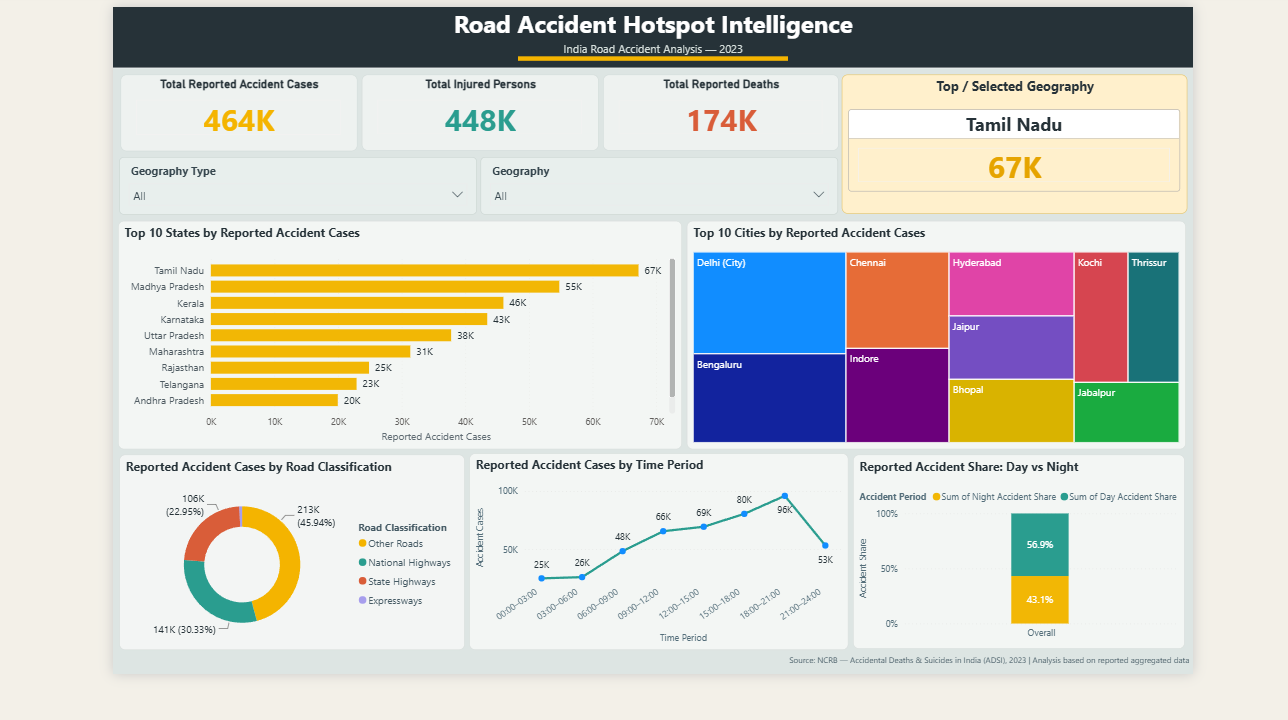

This screenshot's page, from the dashboard's own definition file:
{"tool":"powerbi","page":{"name":"Page 1","canvas":[1440,890],"ordinal":0},"visuals":[{"type":"cardVisual","title":"Total Reported Accident Cases","fields":{"Data":["road_classification_cleaned.Total Accident Cases KPI"]},"box":[9.4,90,315.6,102.2],"z":0},{"type":"cardVisual","title":"Total Injured Persons","fields":{"Data":["road_classification_cleaned.Total Injured Persons KPI"]},"box":[331.6,90.6,315.6,101.6],"z":1000},{"type":"cardVisual","title":"Total Reported Deaths","fields":{"Data":["road_classification_cleaned.Total Reported Deaths KPI"]},"box":[653.1,90.6,314.1,101.6],"z":2000},{"type":"cardVisual","title":"Top / Selected Geography","fields":{"Rows":["road_classification_cleaned.State/UT"],"Data":["Sum(road_classification_cleaned.Total - Cases)"]},"box":[971.9,90.6,460.9,185.9],"z":3000},{"type":"textbox","title":"Road Accident Hotspot Intelligence","box":[0,0,1440.6,81.2],"z":4000},{"type":"slicer","fields":{"Values":["Geography_Dim.Geography Type"]},"box":[7.7,200,477,76.9],"z":5000},{"type":"slicer","fields":{"Values":["Geography_Dim.Geography"]},"box":[490.8,200,477,76.9],"z":6000},{"type":"clusteredBarChart","title":"Top 10 States by Reported Accident Cases","fields":{"Category":["road_classification_cleaned.State/UT"],"Y":["road_classification_cleaned.State Accident Cases"]},"box":[6.2,284.4,752.2,304.7],"z":7000},{"type":"treemap","title":"Top 10 Cities by Reported Accident Cases","fields":{"Values":["Sum(road_classification_cleaned.Total - Cases)"],"Group":["road_classification_cleaned.State/UT"]},"box":[765.6,284.4,665.6,304.7],"z":8000},{"type":"donutChart","title":"Reported Accident Cases by Road Classification","fields":{"Category":["Road Type Summary.Road Classification"],"Y":["Sum(Road Type Summary.Accident Cases)"]},"box":[7.8,596.9,460.9,260.9],"z":9000},{"type":"hundredPercentStackedColumnChart","title":"Reported Accident Share: Day vs Night","fields":{"Category":["Day Night Summary.Period"],"Y":["Sum(Day Night Summary.Night Accident Share)","Sum(Day Night Summary.Day Accident Share)"]},"box":[986.6,596.9,442.2,259.4],"z":10000},{"type":"lineChart","title":"Reported Accident Cases by Time Period","fields":{"Category":["Time Period Summary.Time Period"],"Y":["Sum(Time Period Summary.Accident Cases)"]},"box":[475,595.3,505.6,262.5],"z":11000},{"type":"shape","box":[540.6,0,360,137.5],"z":12000},{"type":"textbox","title":"Source: NCRB — Accidental Deaths & Suicides in India (ADSI), 2023 | Analysis based on reported aggregated data","box":[0,863.7,1440,28.3],"z":13000}]}

Visuals, with their boxes on the page's 1440x890 design canvas (x1, y1, x2, y2). These are canvas units, not pixel positions in the 1288x720 screenshot, which may show the page scaled, cropped or inside an application window:
"Total Reported Accident Cases" cardVisual: 9,90,325,192
"Total Injured Persons" cardVisual: 332,91,647,192
"Total Reported Deaths" cardVisual: 653,91,967,192
"Top / Selected Geography" cardVisual: 972,91,1433,276
"Road Accident Hotspot Intelligence" textbox: 0,0,1441,81
slicer - Geography_Dim.Geography Type: 8,200,485,277
slicer - Geography_Dim.Geography: 491,200,968,277
"Top 10 States by Reported Accident Cases" clusteredBarChart: 6,284,758,589
"Top 10 Cities by Reported Accident Cases" treemap: 766,284,1431,589
"Reported Accident Cases by Road Classification" donutChart: 8,597,469,858
"Reported Accident Share: Day vs Night" hundredPercentStackedColumnChart: 987,597,1429,856
"Reported Accident Cases by Time Period" lineChart: 475,595,981,858
shape: 541,0,901,138
"Source: NCRB — Accidental Deaths & Suicides in India (ADSI), 2023 | Analysis based on reported aggregated data" textbox: 0,864,1440,892
